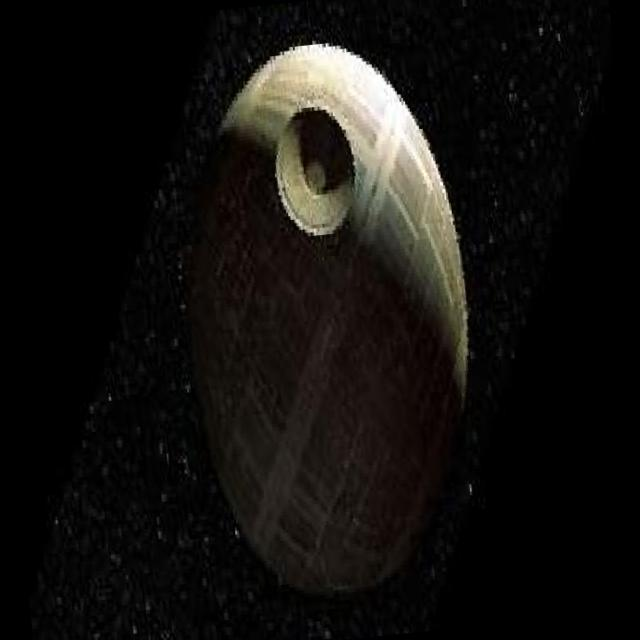Death Star: (153, 22, 502, 620)
